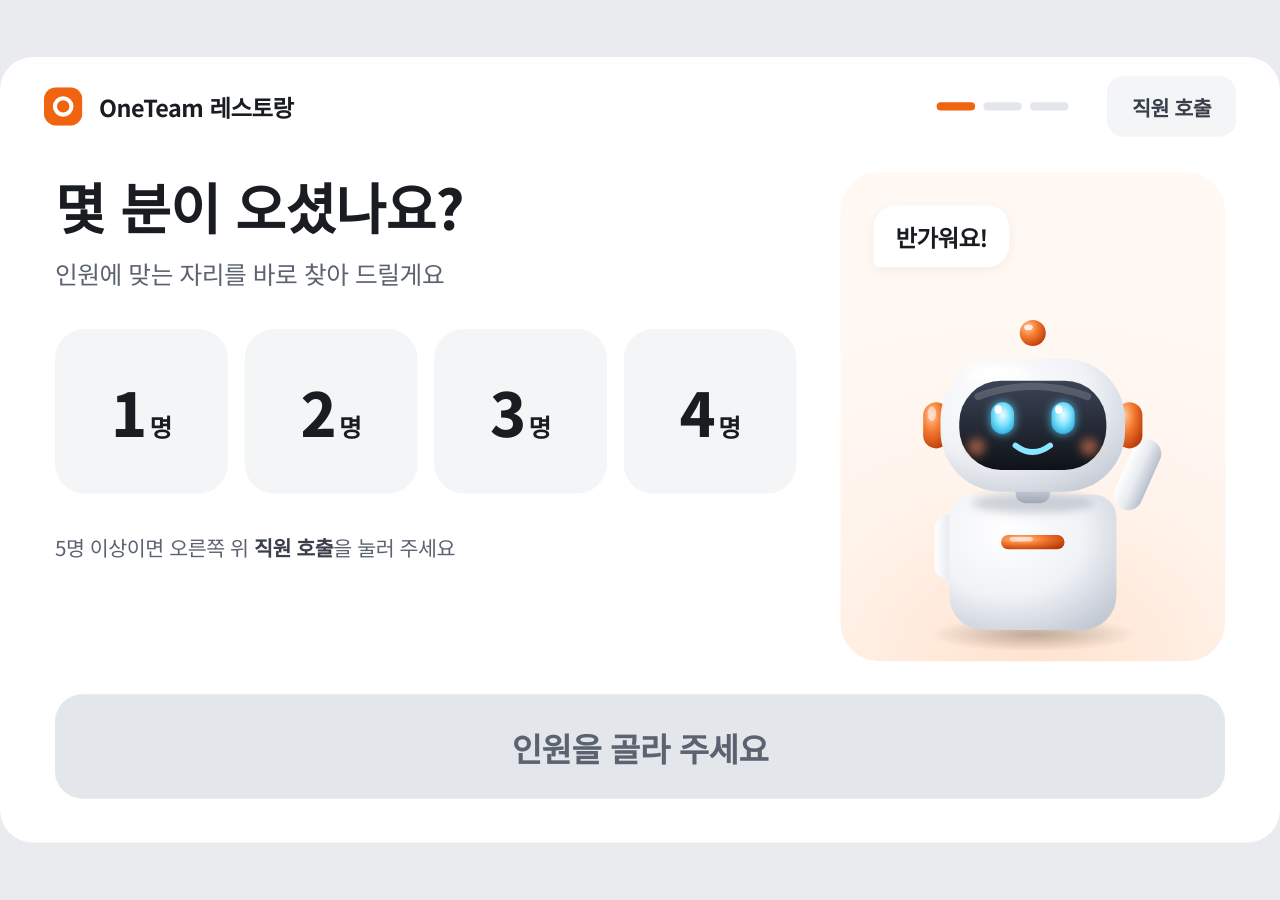
입구 키오스크 흐름 › 빈 테이블이 없으면(WAITING) 대기 번호를 알려 준다
Click the button named "1명" at [141, 412], box top-left (55, 329), bottom-right (228, 494)
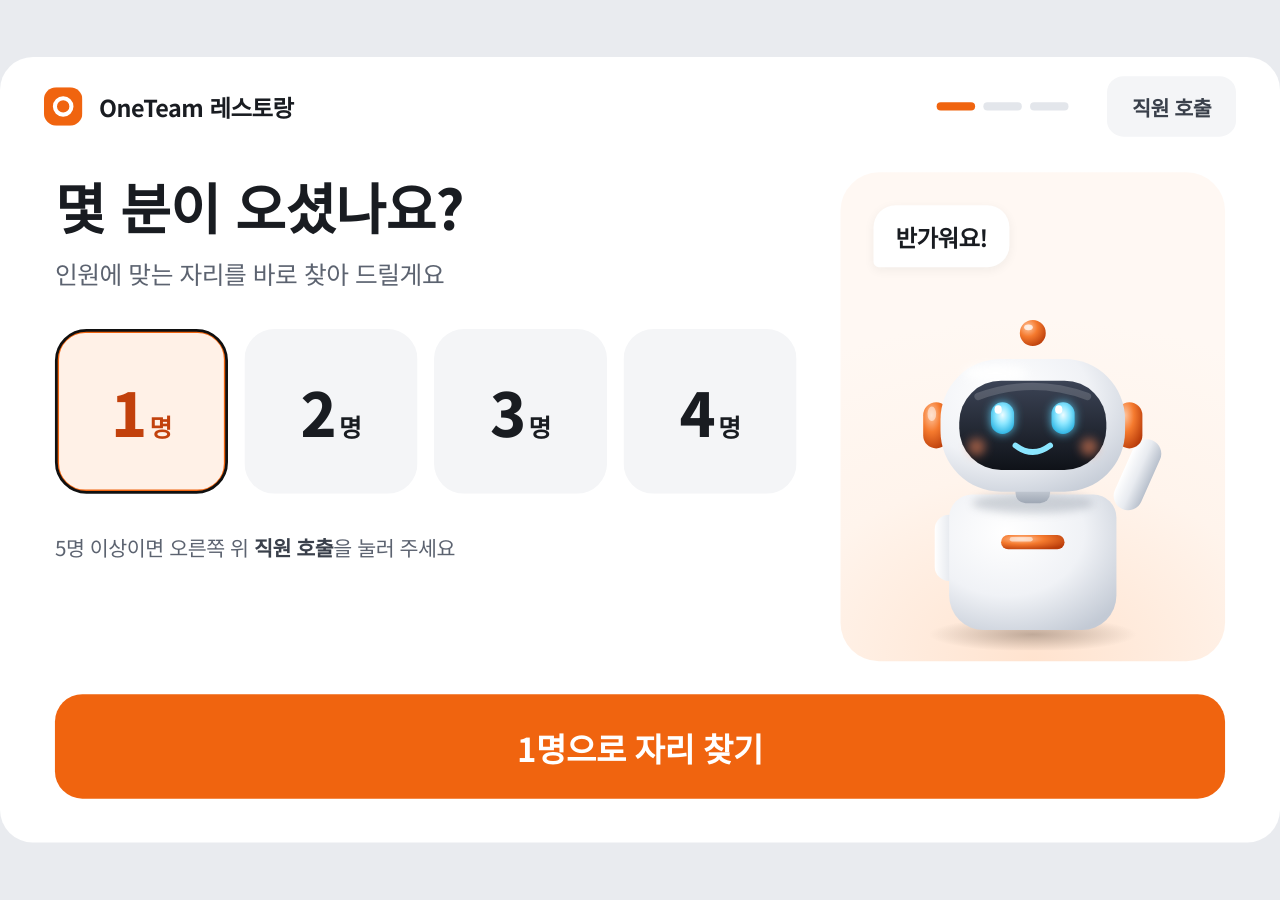
Click the button "1명으로 자리 찾기" at [640, 747], box top-left (55, 694), bottom-right (1225, 799)
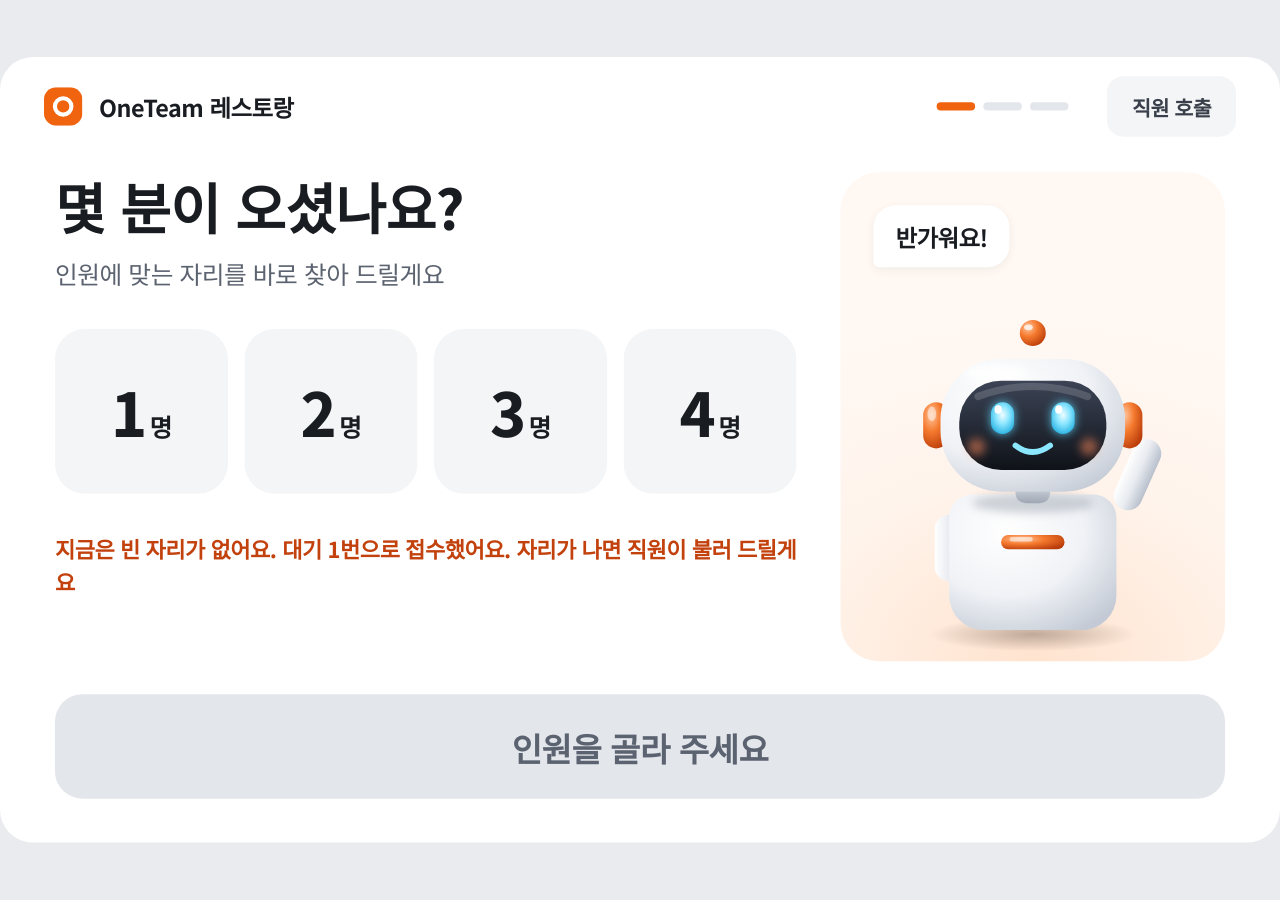
Check: the message shows "대기 1번으로 접수했어요", box top-left (55, 532), bottom-right (796, 598)
